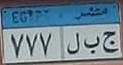7: (37, 28, 55, 58), (8, 29, 25, 58), (25, 31, 39, 57)
ب: (83, 32, 100, 58)
ج: (100, 24, 117, 58)
ل: (62, 27, 81, 56)
